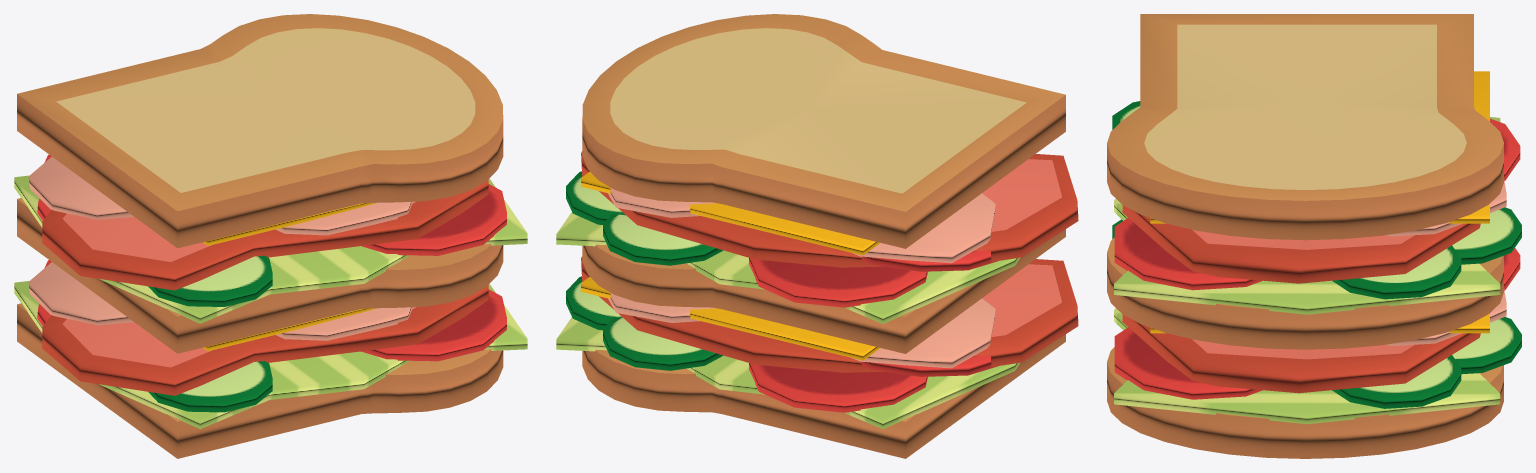
The model's file is sandwich3.fbx.
3 renders of one model, left to right at view 1: azimuth 30°, elevation 25°; view 2: azimuth 150°, elevation 25°; view 3: azimuth 270°, elevation 25°, orthographic. The views are drawn at different scales.
Parts seen in each view (by area): view 1: PAO.001; view 2: PAO.001; view 3: PAO.001.
Part boxes in pixels (left/top/right/bottom): PAO.001: left=14, top=14, right=527, bottom=458; PAO.001: left=556, top=14, right=1078, bottom=458; PAO.001: left=1107, top=14, right=1521, bottom=458.
Size of the model in its own units: 784 by 426 by 617.
